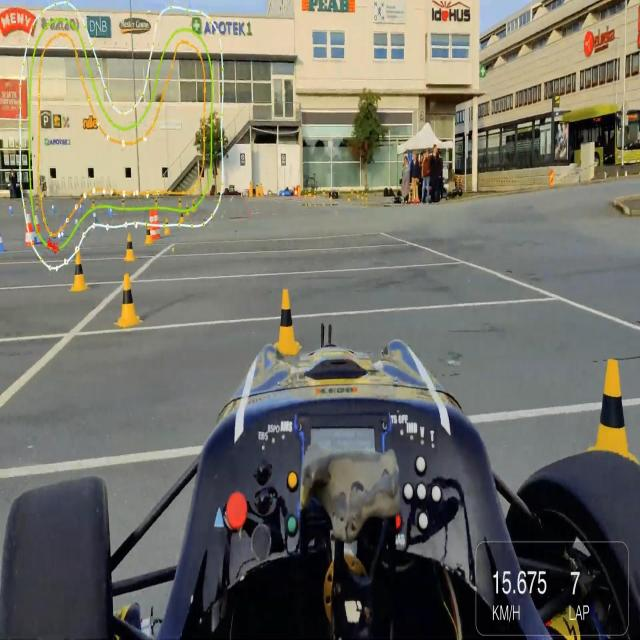large_orange_cone: (24, 212, 34, 246), (147, 209, 157, 241), (32, 213, 42, 244), (154, 209, 162, 237)
yellow_cone: (588, 360, 640, 474), (272, 288, 302, 354), (115, 274, 142, 328), (70, 249, 89, 292), (124, 233, 136, 260), (144, 225, 153, 245), (164, 218, 170, 235)
